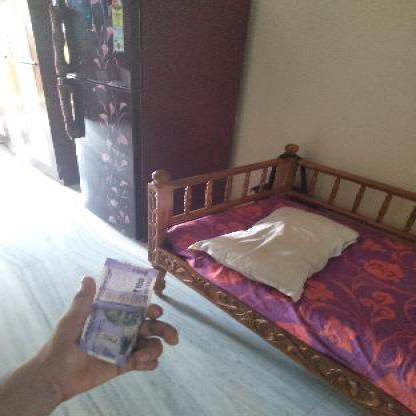New100Front: (82, 257, 158, 364)
